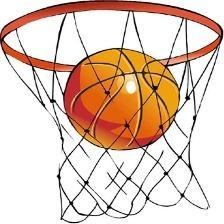Sports-Ball: (64, 50, 179, 149)
